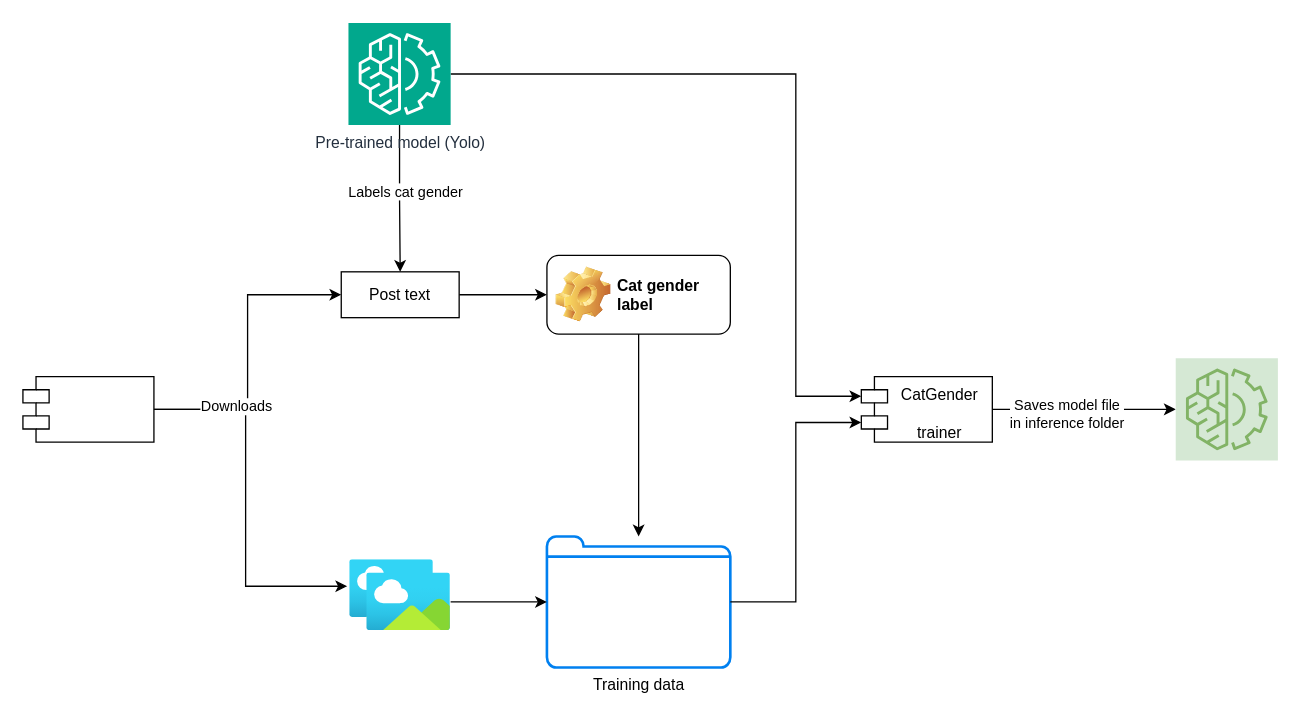
Image size: 1309x718. Some labels were removed from this diagram. The shapes that lost their labels are listed below. From the top down, each one's centre as x and y in pixels, then its label:
At [88,408]: "VK_Parser".
At [1226,408]: "Trained CatGenderModel".
At [408,601]: "Post images".
